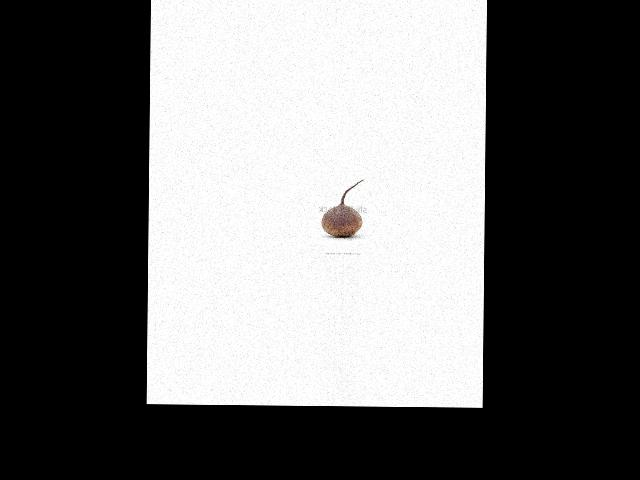beet: (320, 179, 363, 238)
